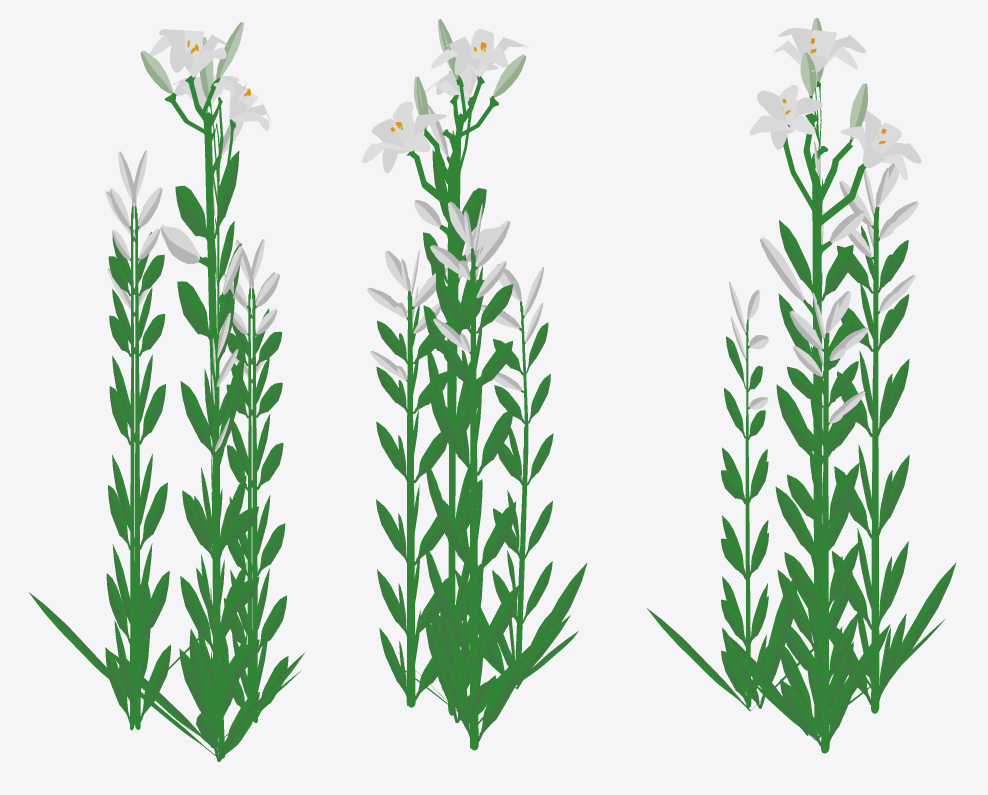
The model's file is PT_Lily_01.fbx.
3 views of the same model, side by side, from view 1: azimuth 30°, elevation 25°; view 2: azimuth 150°, elevation 25°; view 3: azimuth 270°, elevation 25° (orthographic). The views are drawn at different scales.
Visible parts, largest first — view 1: PT_Lily_01_LOD0; view 2: PT_Lily_01_LOD0; view 3: PT_Lily_01_LOD0.
Boxes of the visible parts, x1=… form: PT_Lily_01_LOD0: x1=29, y1=22, x2=304, y2=761; PT_Lily_01_LOD0: x1=362, y1=19, x2=587, y2=750; PT_Lily_01_LOD0: x1=647, y1=18, x2=955, y2=753.
Size of what is drawn, in the model's own units: 36.74 by 115 by 50.23.
